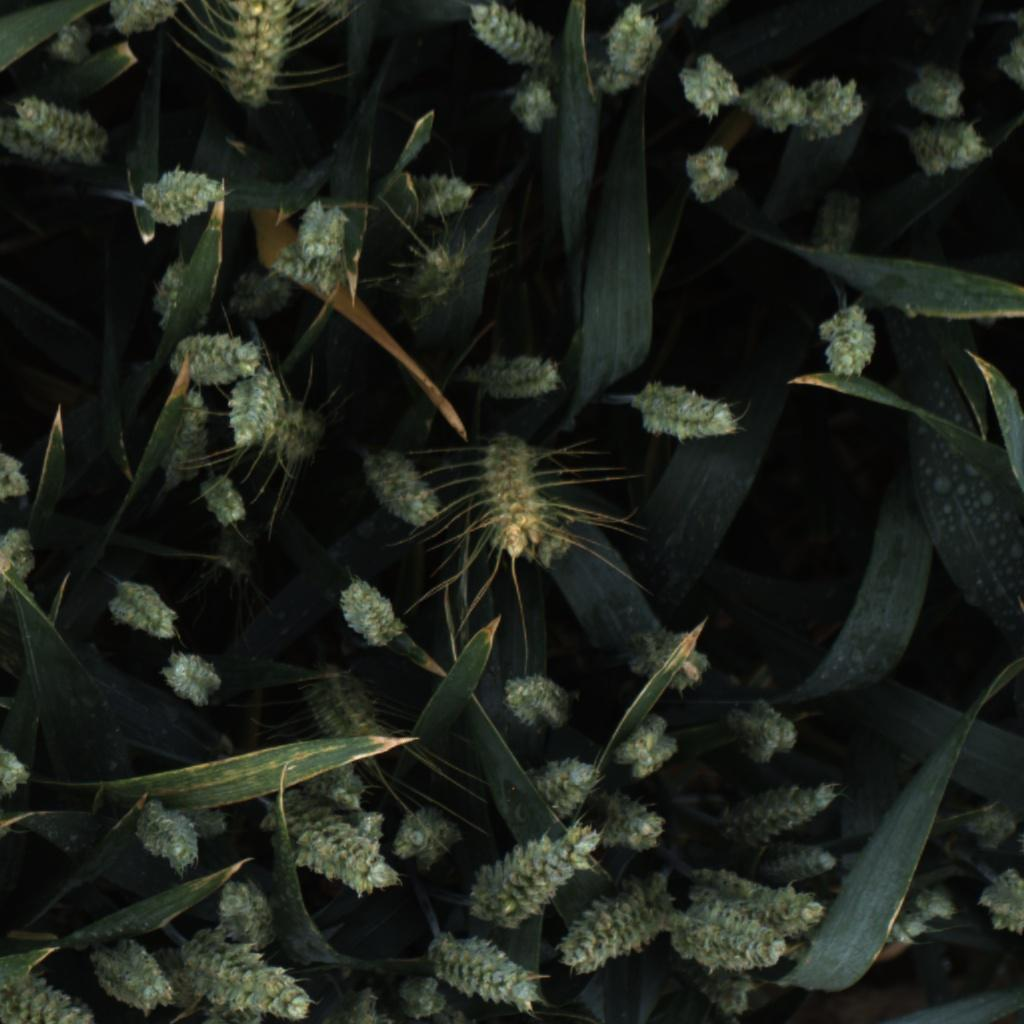0-0: (257, 788, 404, 904), (778, 881, 962, 968), (172, 921, 314, 1023), (471, 823, 598, 927), (549, 876, 668, 981), (677, 864, 830, 943), (421, 927, 540, 1018), (474, 432, 554, 562), (663, 895, 789, 974), (714, 775, 849, 843), (626, 375, 747, 449), (295, 673, 398, 758), (221, 0, 294, 118), (19, 90, 116, 170), (595, 0, 666, 99), (459, 0, 559, 70), (0, 978, 152, 1024), (331, 575, 416, 657), (361, 449, 446, 531), (623, 621, 710, 701), (499, 661, 583, 741), (164, 326, 268, 388), (132, 798, 207, 883), (102, 570, 184, 647), (903, 115, 997, 182), (469, 347, 568, 410), (721, 695, 803, 770), (85, 943, 163, 1021), (137, 164, 226, 229), (810, 305, 883, 383), (793, 71, 866, 149), (269, 237, 356, 302), (391, 802, 464, 879), (600, 781, 673, 858), (523, 754, 606, 821), (105, 935, 177, 1012), (160, 387, 212, 493), (673, 48, 747, 122), (219, 867, 284, 951), (753, 838, 853, 891), (402, 242, 470, 319), (607, 712, 684, 779), (681, 964, 774, 1019), (738, 69, 812, 137), (799, 192, 872, 260), (286, 757, 367, 818), (155, 646, 227, 712), (144, 937, 208, 1009), (402, 166, 484, 222), (199, 523, 266, 591), (272, 395, 335, 466), (227, 372, 285, 449), (676, 141, 742, 208), (903, 60, 976, 119), (293, 196, 355, 264), (503, 71, 564, 139), (143, 249, 198, 323), (227, 263, 294, 323), (35, 12, 102, 71), (959, 796, 1022, 857), (0, 527, 44, 612), (104, 0, 193, 40), (974, 867, 1024, 937), (394, 968, 457, 1022), (321, 803, 389, 852), (200, 475, 257, 531), (314, 981, 388, 1024), (0, 101, 43, 173), (0, 732, 40, 805), (0, 438, 37, 511), (669, 0, 743, 32), (283, 0, 357, 23), (198, 1001, 268, 1024), (425, 1001, 482, 1024), (996, 51, 1024, 94), (1009, 34, 1024, 71), (1013, 0, 1024, 35)
